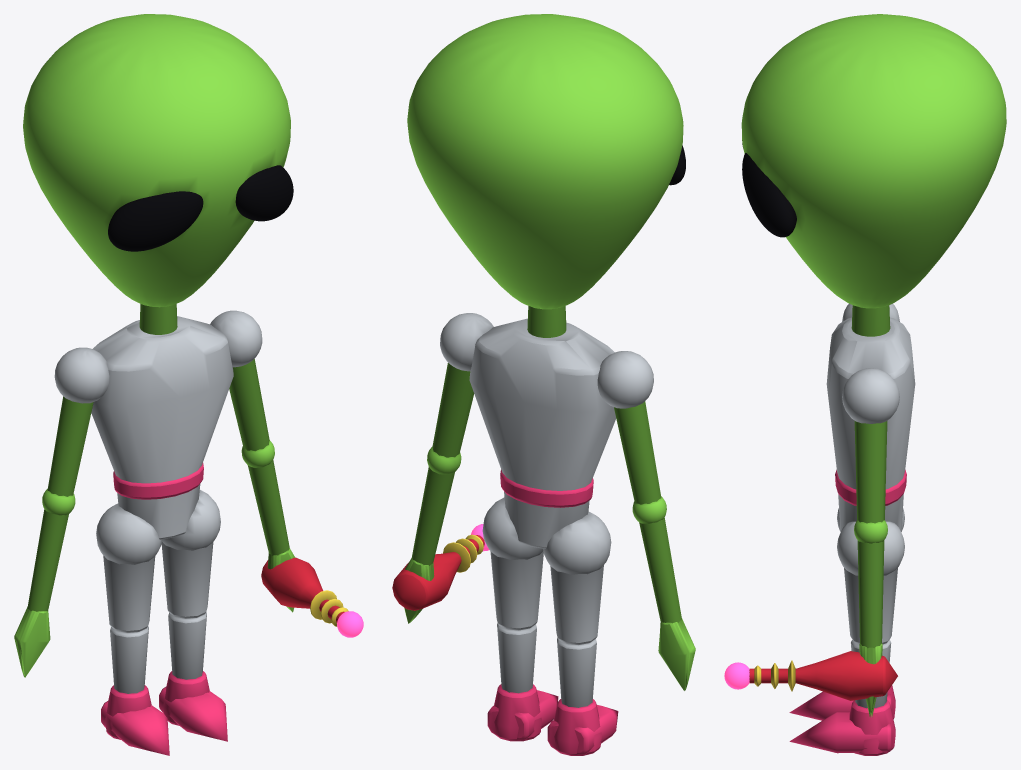
Rendered from alien_grunt.glb.
The picture shows the model from 3 angles, left to right: view 1: azimuth 30°, elevation 25°; view 2: azimuth 150°, elevation 25°; view 3: azimuth 270°, elevation 25°; orthographic projection. The views are drawn at different scales.
Visible parts, largest first — view 1: skull, torso, eye, thigh, thigh.001, hip, upper, shoulder, eye.001, upper.001, gun_body, lower (+13 smaller); view 2: skull, torso, thigh.001, thigh, hip, upper, shoulder, upper.001, lower, gun_body, lower.001, shin (+13 smaller); view 3: skull, torso, gun_body, upper.001, lower.001, shoulder.001, eye.001, toe.001, hip.001, thigh.001, boot.001, toe (+5 smaller).
Part boxes in pixels (left/top/right/bottom): skull: left=23, top=14, right=290, bottom=307; torso: left=91, top=316, right=233, bottom=539; eye: left=108, top=191, right=203, bottom=251; thigh: left=103, top=555, right=155, bottom=632; thigh.001: left=161, top=542, right=213, bottom=618; hip: left=96, top=503, right=162, bottom=564; upper: left=47, top=396, right=93, bottom=496; shoulder: left=54, top=347, right=109, bottom=403; eye.001: left=235, top=165, right=293, bottom=221; upper.001: left=229, top=359, right=269, bottom=451; gun_body: left=261, top=557, right=344, bottom=622; lower: left=27, top=509, right=68, bottom=611; skull: left=407, top=14, right=683, bottom=309; torso: left=469, top=318, right=616, bottom=548; thigh.001: left=490, top=551, right=543, bottom=630; thigh: left=550, top=565, right=603, bottom=644; hip: left=543, top=511, right=611, bottom=574; upper: left=614, top=401, right=661, bottom=504; shoulder: left=597, top=351, right=653, bottom=408; upper.001: left=432, top=363, right=474, bottom=457; lower: left=639, top=517, right=681, bottom=623; gun_body: left=392, top=535, right=484, bottom=610; lower.001: left=412, top=466, right=454, bottom=565; shin: left=557, top=638, right=596, bottom=707; skull: left=741, top=14, right=1006, bottom=308; torso: left=826, top=317, right=915, bottom=531; gun_body: left=749, top=651, right=897, bottom=700; upper.001: left=854, top=421, right=887, bottom=523; lower.001: left=857, top=540, right=884, bottom=648; shoulder.001: left=842, top=368, right=899, bottom=423; eye.001: left=742, top=153, right=796, bottom=237; toe.001: left=789, top=711, right=891, bottom=753; hip.001: left=837, top=521, right=904, bottom=575; thigh.001: left=844, top=568, right=897, bottom=644; boot.001: left=849, top=700, right=895, bottom=755; toe: left=789, top=691, right=891, bottom=720.
Bounding box in the file's own units: 0.9998 × 2.28 × 0.8277.
